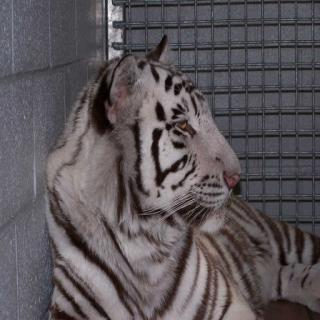Tiger: (37, 38, 301, 320)
